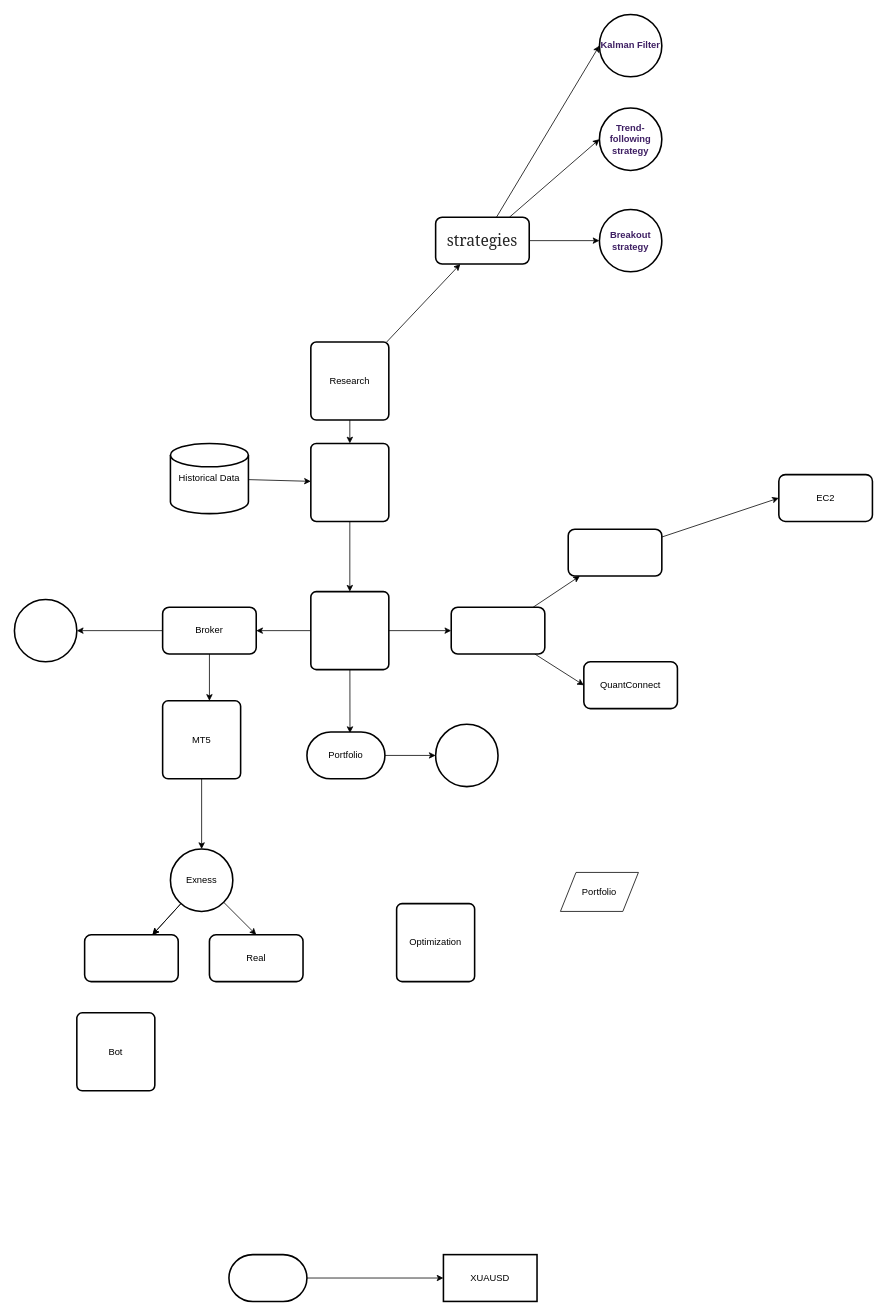
The diagram is 886 pixels wide and 1315 high, and some of its shapes have lost their labels. The shapes that lost their labels are listed below. From the top down, each one's box as (x1, y1, x2, y2) in pixels, then its label:
(310, 442, 389, 522): Backtest
(567, 528, 662, 576): AWS
(13, 598, 77, 662): Oanda
(310, 590, 389, 670): Live Trading
(450, 606, 545, 654): Deploy
(434, 723, 498, 787): myfxbook
(83, 934, 179, 982): Demo
(228, 1253, 307, 1302): Forex
